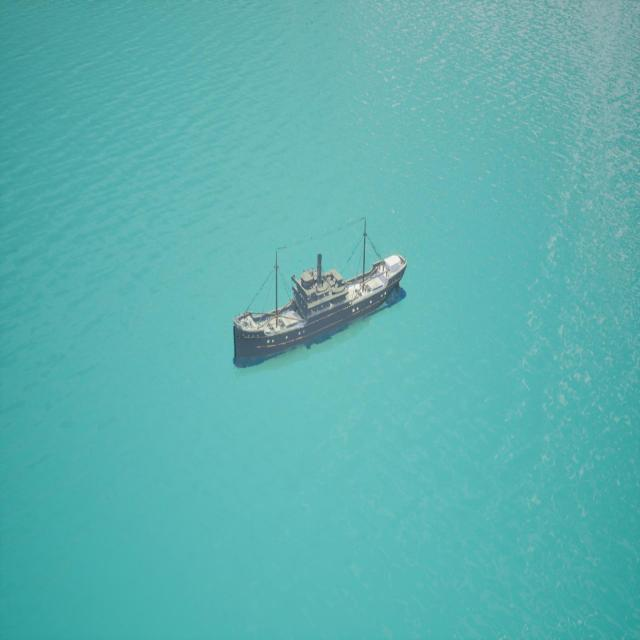fishing ship: (233, 248, 407, 370)
